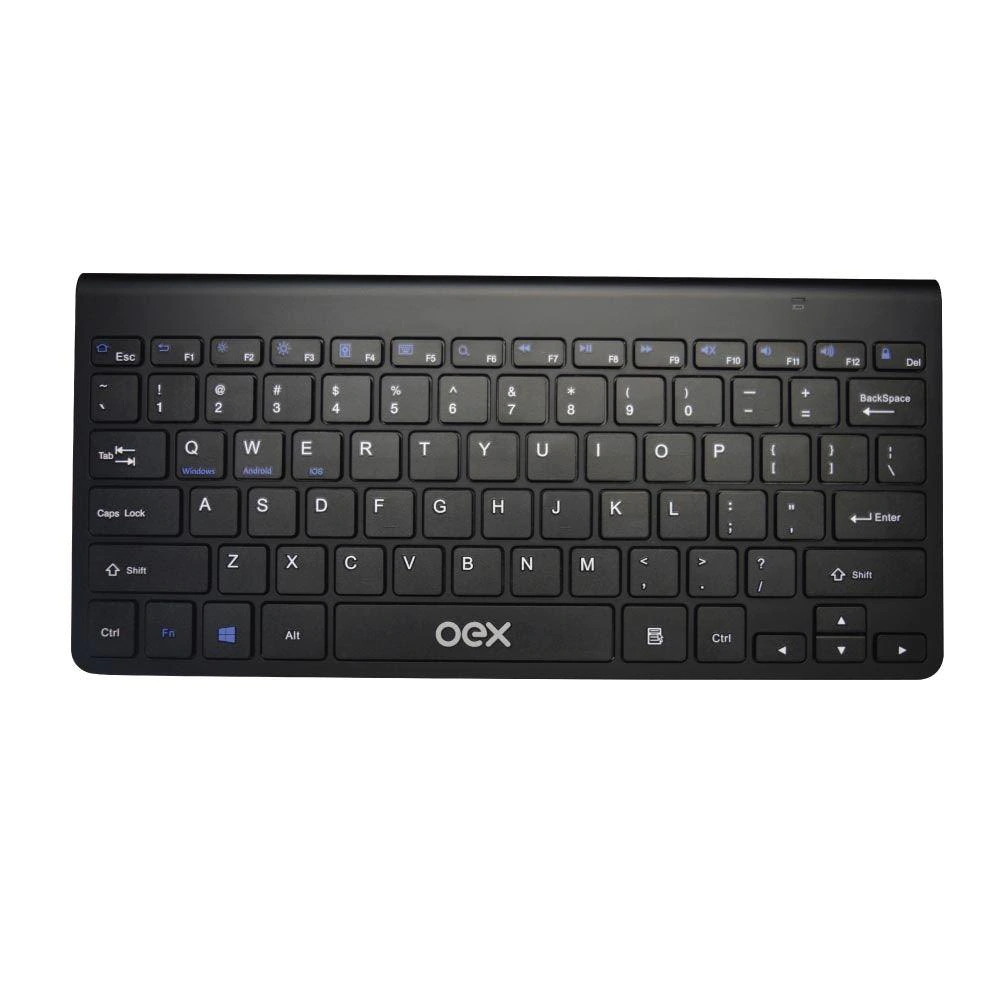keyboard: (69, 268, 948, 684)
